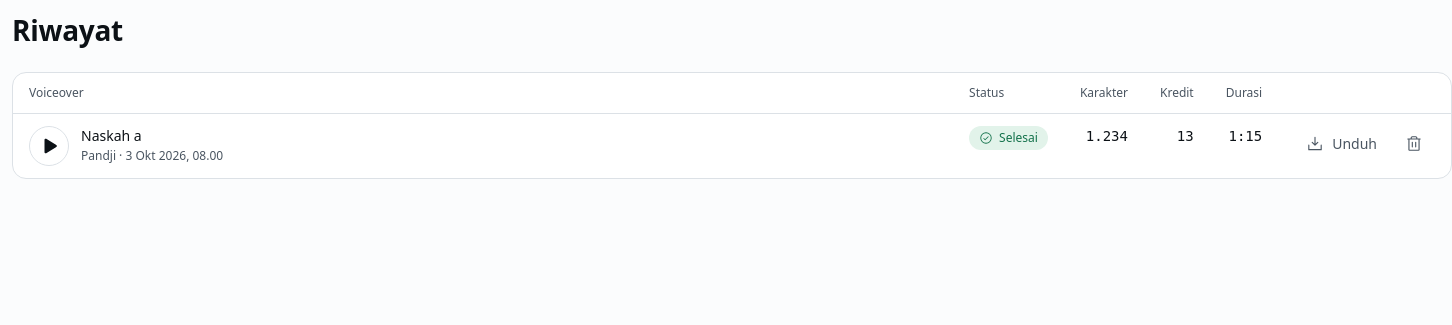
HistoryPage › deletes a row after confirmation
The image size is (1452, 325).
Click the button named "Hapus Naskah a" at [1414, 144], box [1393, 126, 1435, 162]
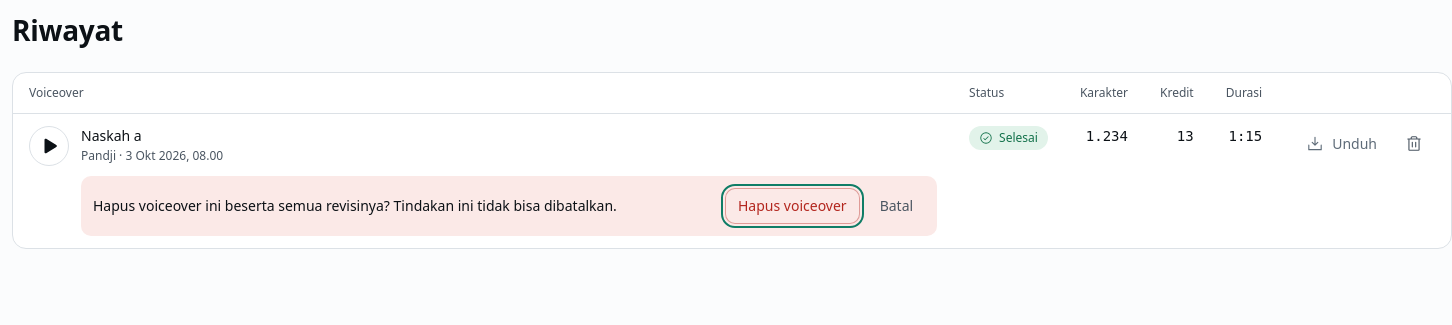
Click the button "Hapus voiceover" at [792, 206], box [725, 188, 860, 224]
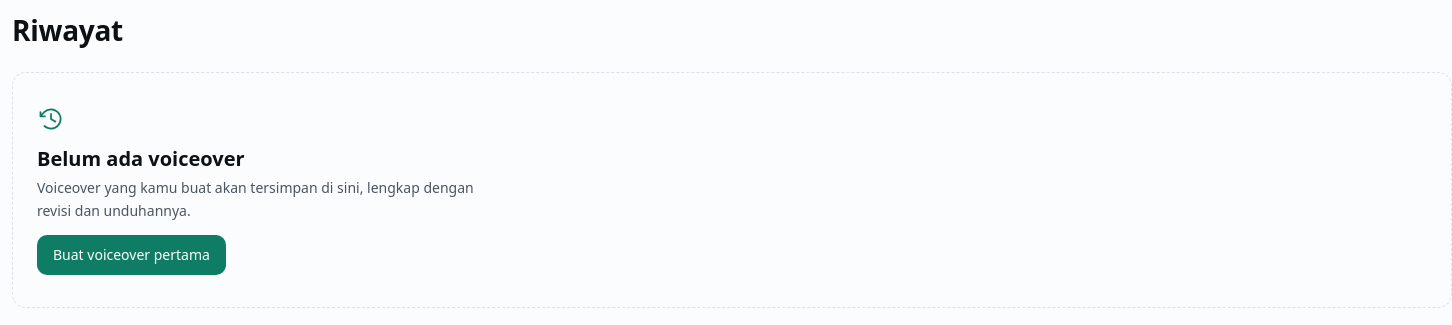
Expected: the text "Belum ada voiceover" is shown, [37, 145, 245, 172]
